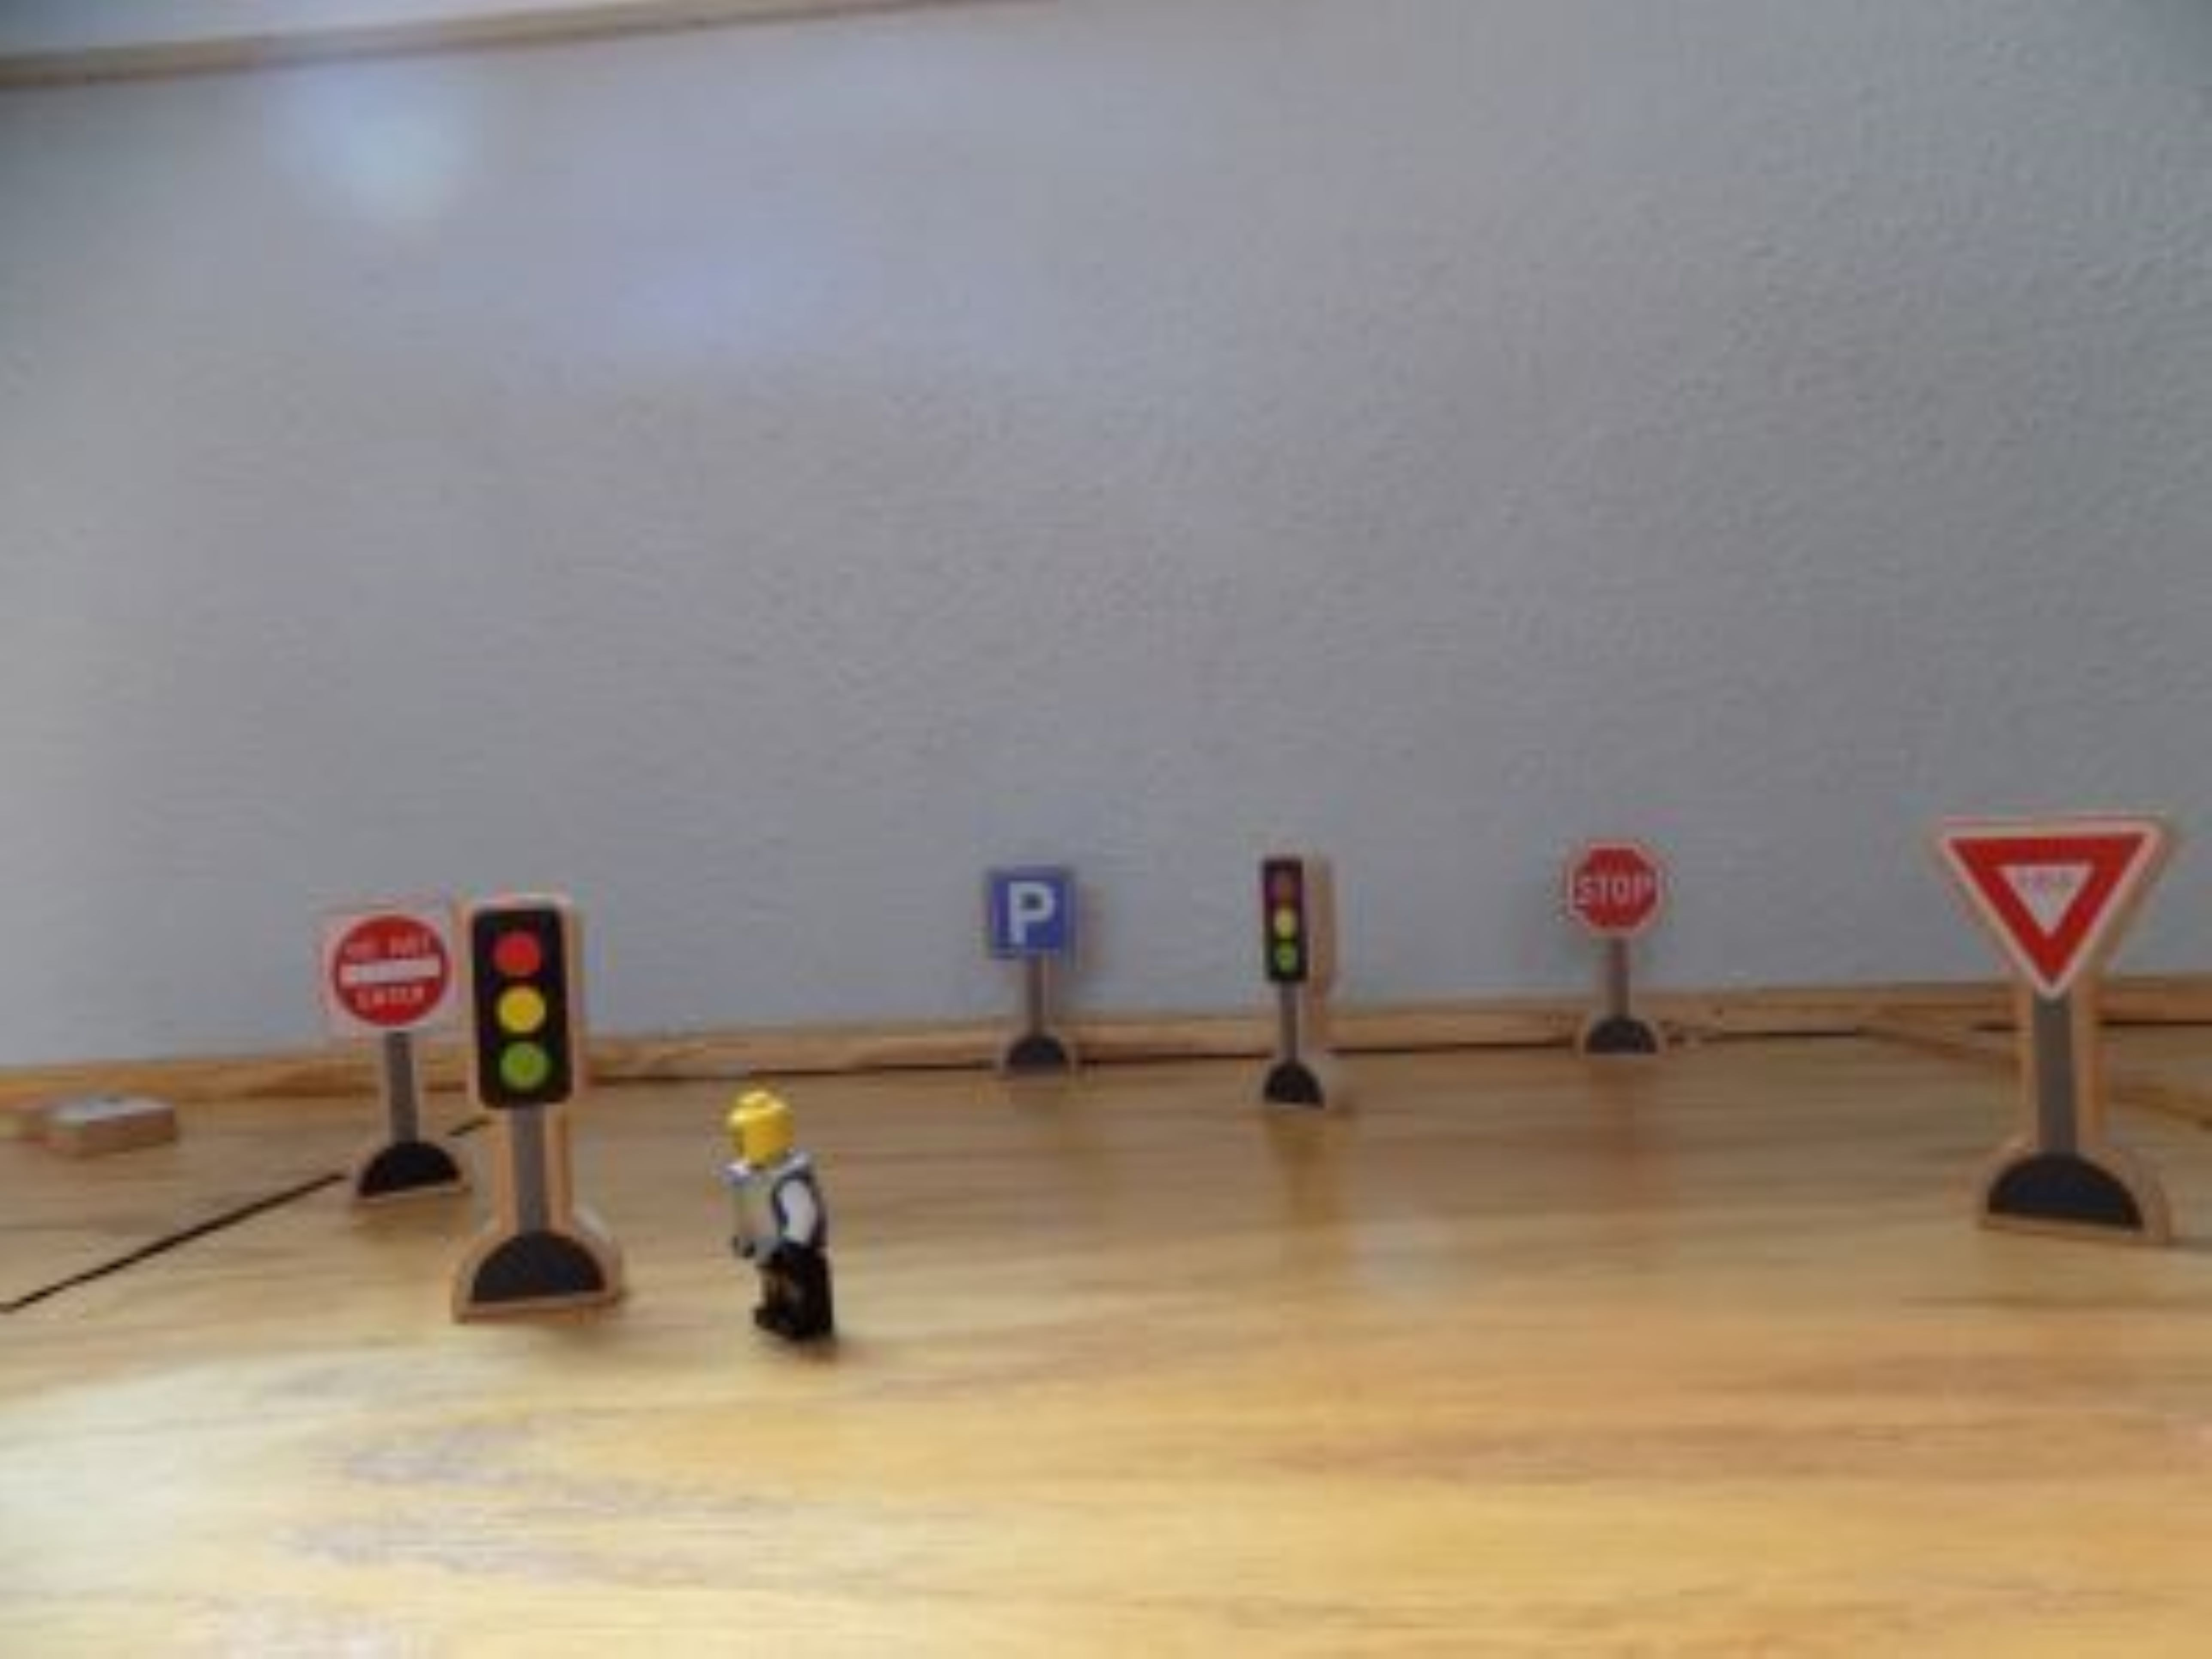Parking Sign: (988, 869, 1078, 962)
Person: (707, 1094, 851, 1358)
Red Traffic Light: (473, 895, 581, 1118), (1257, 838, 1332, 994)
Stop Sign: (320, 914, 466, 1042), (1562, 845, 1675, 946)
Yield Sign: (1923, 817, 2192, 991)
